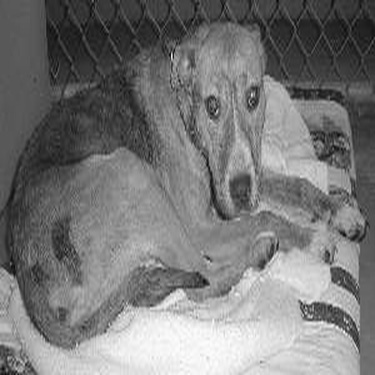dog: (4, 15, 368, 349)
